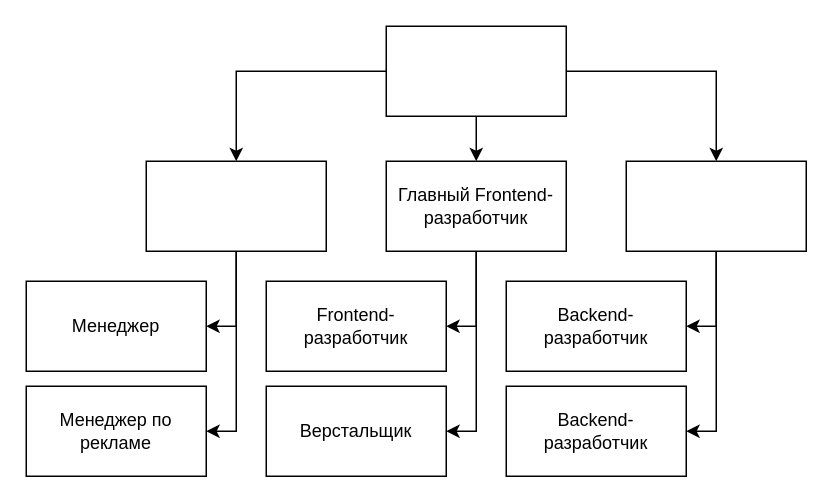
This 833x503 diagram has some shape labels left out. Each missing label, with the box of its shape:
Главный Backend-разраотчик: (625, 160, 806, 251)
Директор: (385, 25, 566, 116)
Директор по маркетигу: (145, 160, 326, 251)
